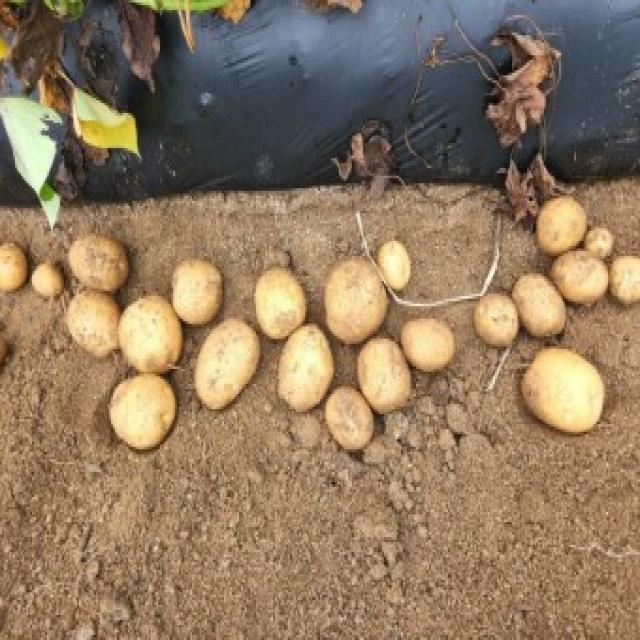potato: (520, 338, 607, 428), (192, 307, 264, 413), (114, 298, 188, 380), (278, 318, 336, 416), (324, 256, 387, 340), (108, 371, 175, 449), (355, 331, 412, 416), (251, 264, 313, 338), (512, 270, 570, 342), (65, 290, 124, 360), (322, 381, 376, 454), (167, 260, 229, 322), (403, 313, 459, 381), (68, 229, 129, 290), (552, 245, 613, 306), (536, 193, 591, 256), (472, 288, 520, 349), (0, 237, 29, 300), (378, 240, 416, 288), (609, 251, 640, 305), (30, 256, 64, 304), (584, 218, 613, 260)
